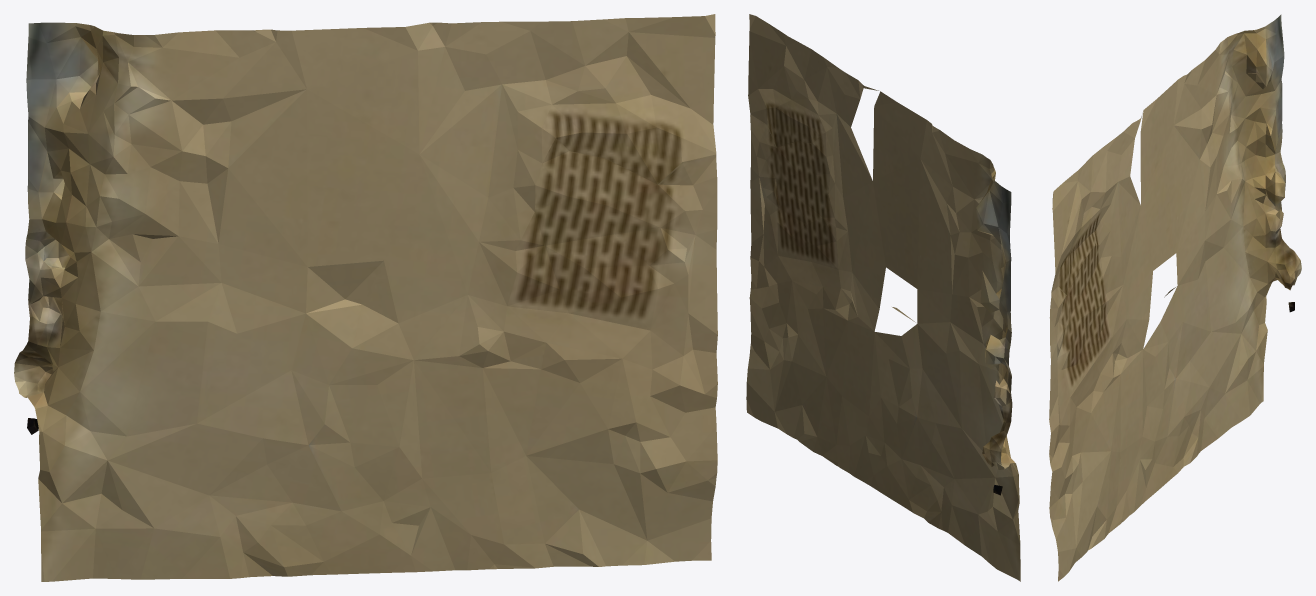
3 views of the same model, side by side, from view 1: azimuth 30°, elevation 25°; view 2: azimuth 150°, elevation 25°; view 3: azimuth 270°, elevation 25° (orthographic). The views are drawn at different scales.
Bounding box in the file's own units: 1.67 × 1.67 × 0.9903.
3 materials, 3 textured.
